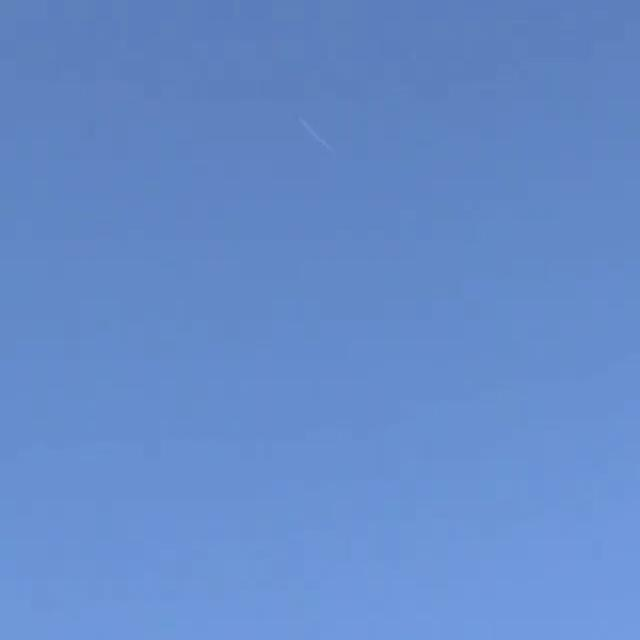AirPlane: (281, 91, 332, 150)
